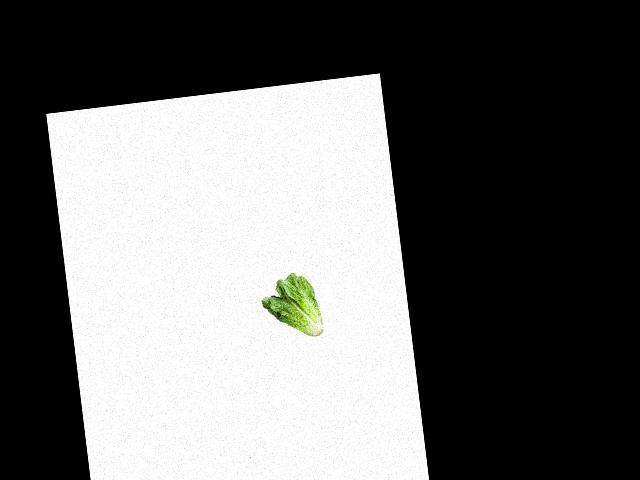lettuce: (256, 269, 330, 346)
